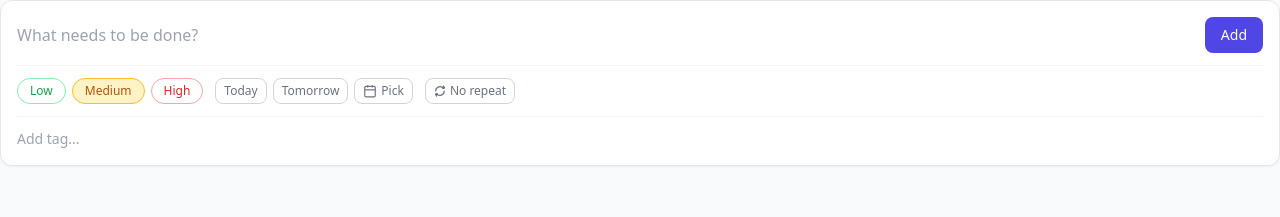
Test: TaskInput — repeat chip label › shows "Weekly" after selecting Weekly
Click the button with aria-label "set repeat schedule" at (470, 91), box x1=425 y1=78 x2=515 y2=104
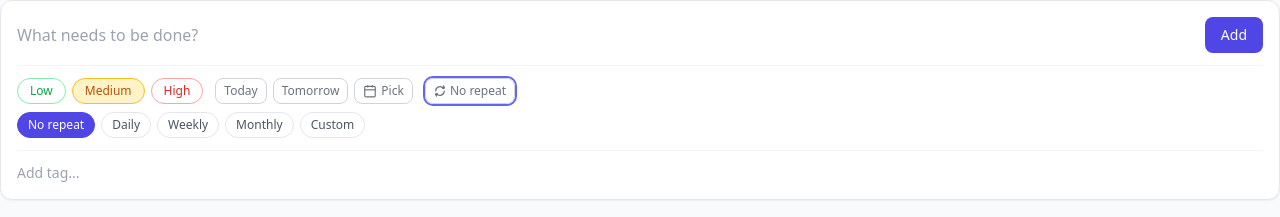
Click the button "Weekly" at (188, 125), box x1=157 y1=112 x2=219 y2=138
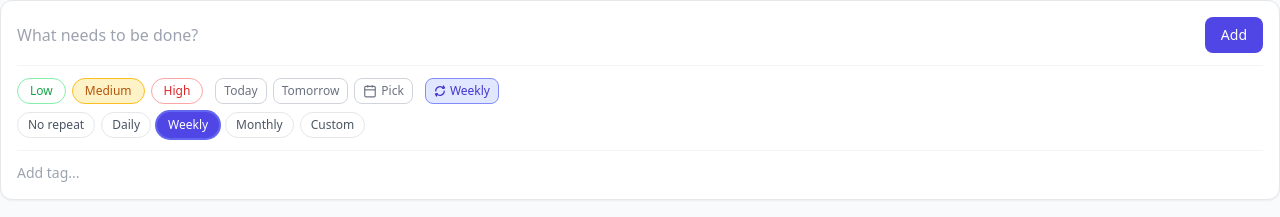
Check: the button with aria-label "set repeat schedule" reads "Weekly", box x1=425 y1=78 x2=499 y2=104
